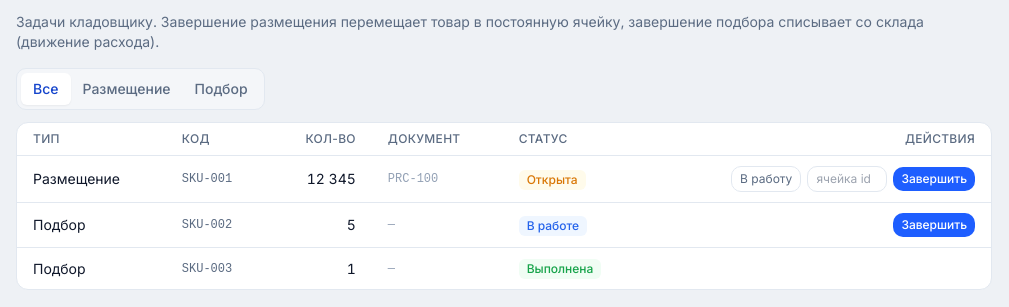
Test: WmsTasks › вкладка «Размещение» показывает только putaway-строку
This screenshot has width=1009, height=307.
Click the button "Размещение": click(127, 89) [70,73,183,105]
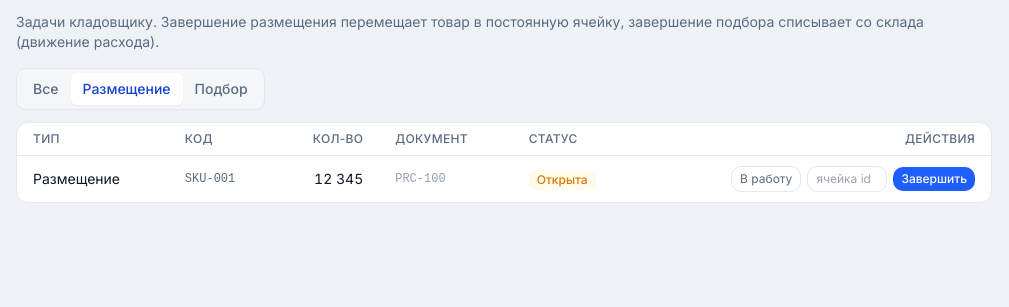
Expected: the text "SKU-001" is shown, [169,156,274,202]
Expected: the text "SKU-002" is gone
